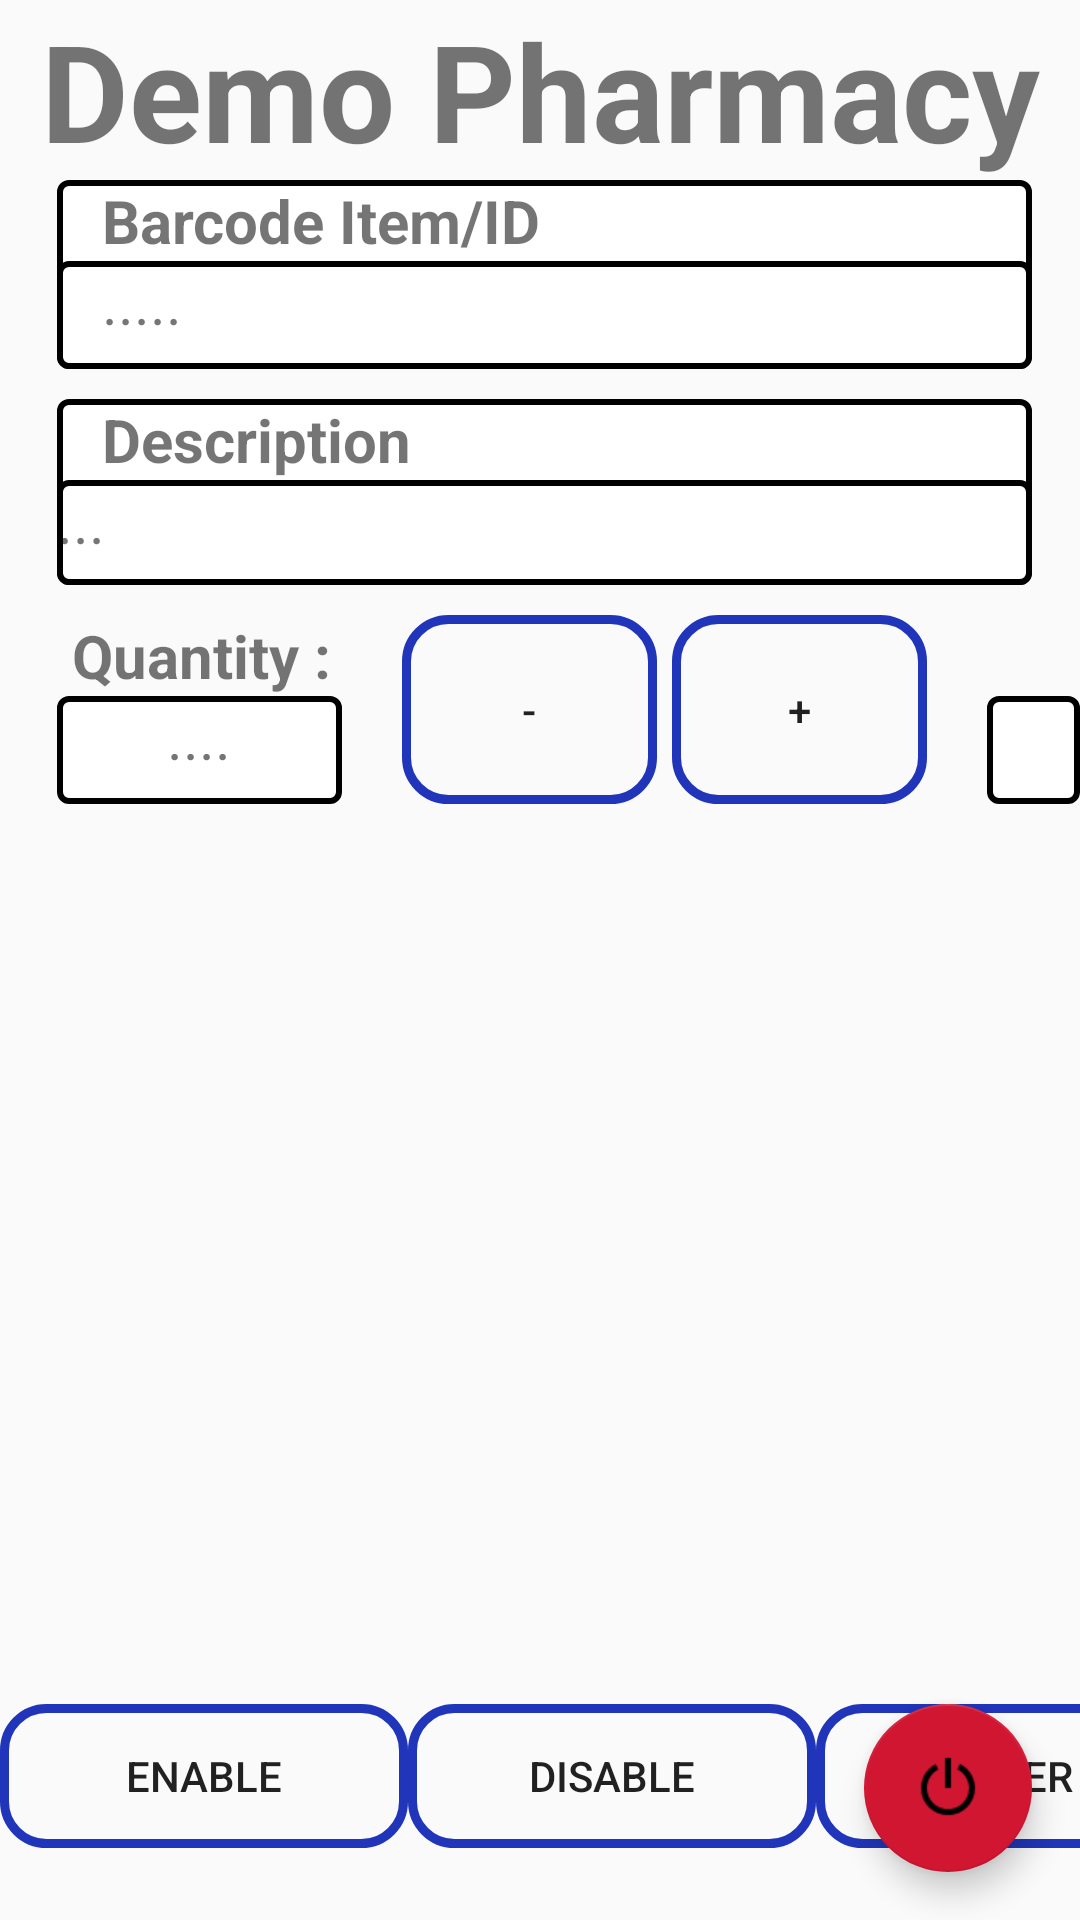

Screen size 1080 × 1920. Icon name, then its box in pixels as (x1, y1, x2, y2):
shutdown: (864, 1704, 1032, 1872)
